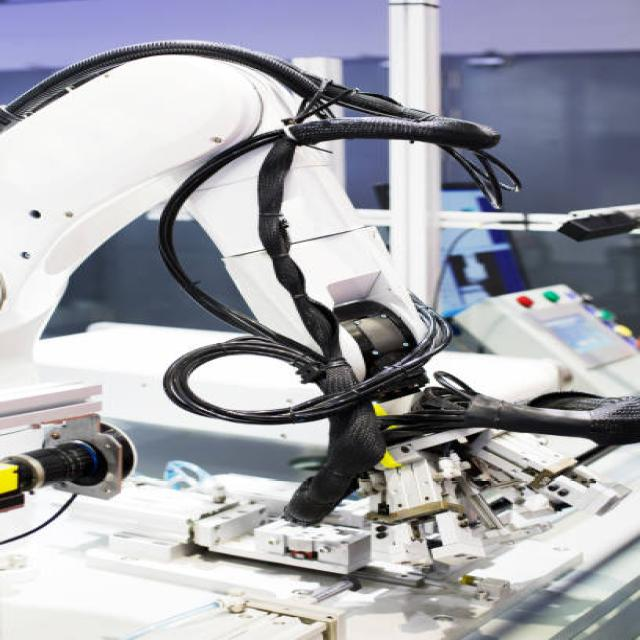Robotic-arm: (0, 27, 445, 525)
